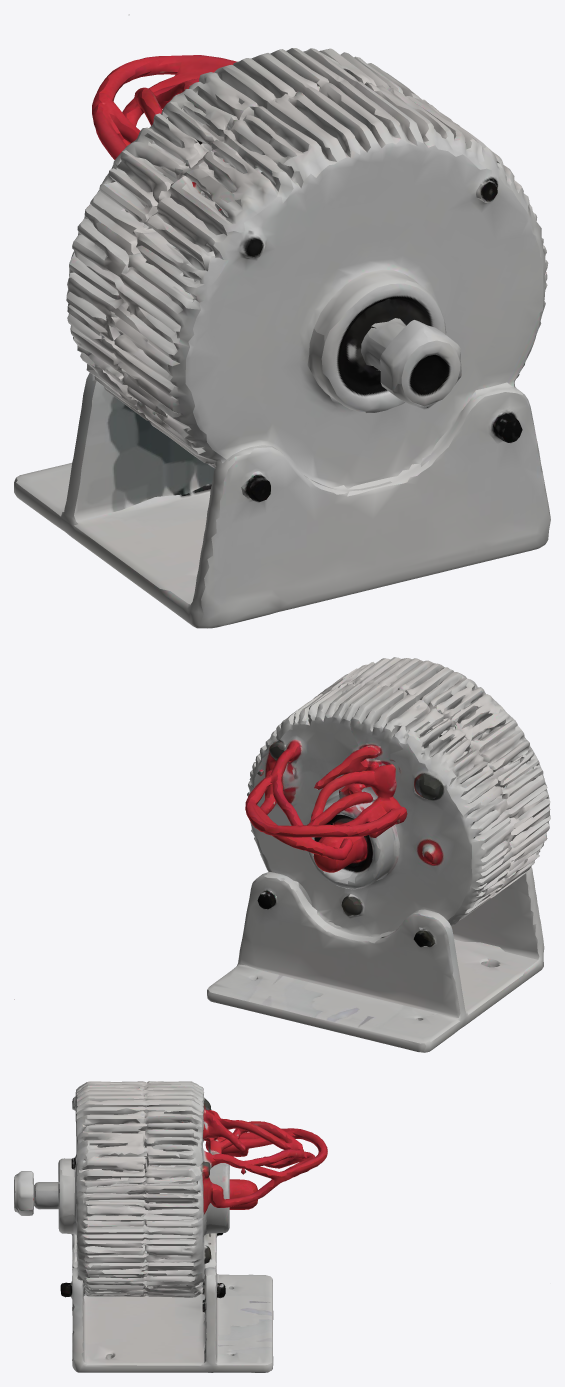
3 renders of one model, top to bottom at view 1: azimuth 30°, elevation 25°; view 2: azimuth 150°, elevation 25°; view 3: azimuth 270°, elevation 25°, orthographic. The views are drawn at different scales.
Visible parts, largest first — view 1: textured_mesh.obj; view 2: textured_mesh.obj; view 3: textured_mesh.obj.
Boxes of the visible parts, x1,y1,x2,y2 form: textured_mesh.obj: (14, 14, 550, 628); textured_mesh.obj: (14, 657, 550, 1052); textured_mesh.obj: (14, 1081, 327, 1372).
Bounding box in the file's own units: 0.9075 × 0.9675 × 1.99.
1 material, 1 textured.
